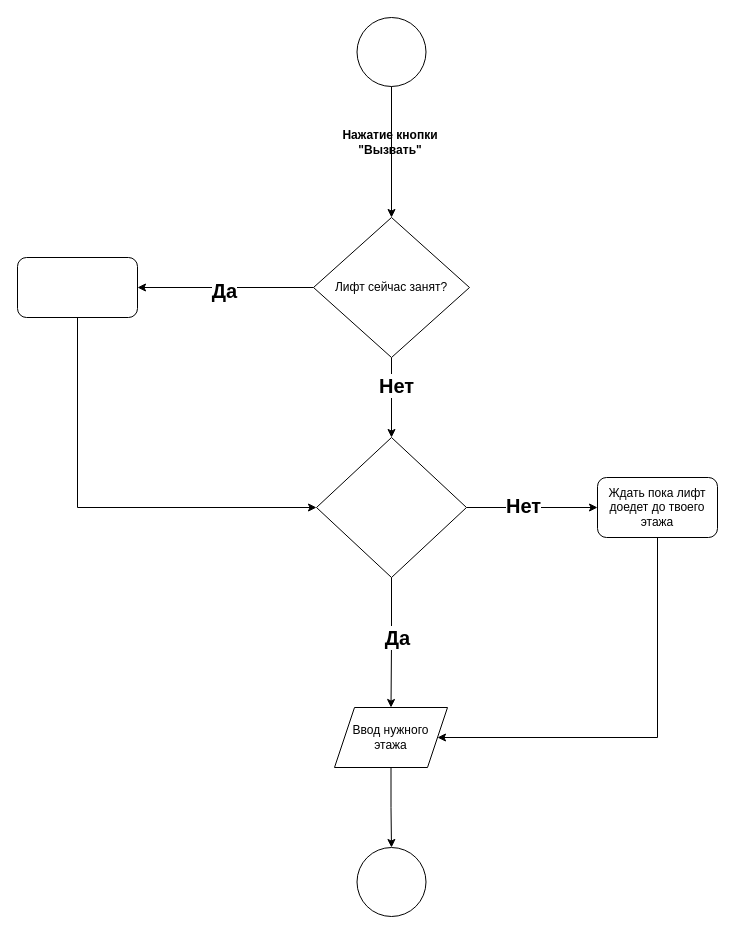
This 735x934 diagram has some shape labels left out. The box of each missing label's shape, as (x1, y1, x2, y2) in pixels:
Ждать пока лифт доставит пассажира: (16, 256, 138, 318)
Лифт на нужном этаже?: (316, 436, 466, 578)
